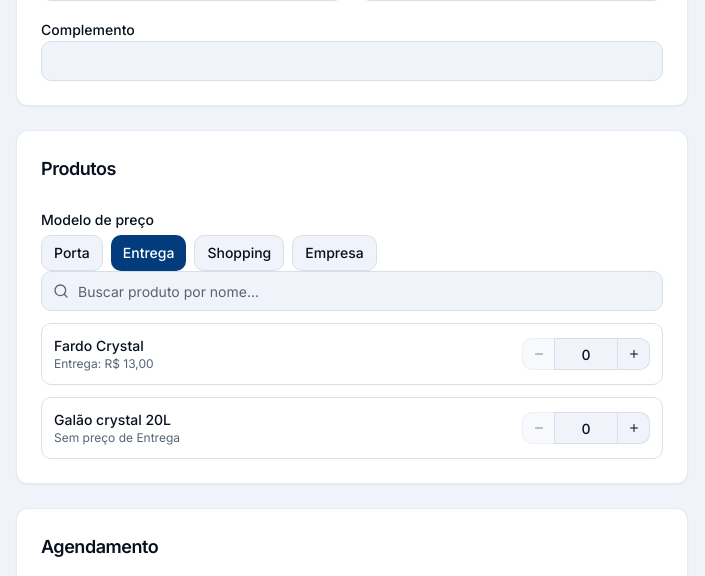
Test: Novo pedido: preço por item › total digitado à mão vira desconto sobre a soma
This screenshot has width=705, height=576.
(page scrolled)
Click the button named "Aumentar" in the row of "Entrega: R$ 13,00": (634, 354) [618,338,650,370]
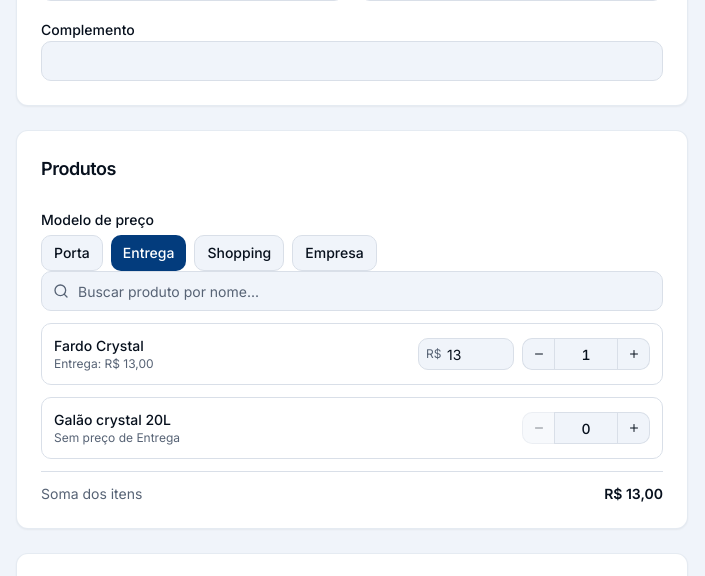
Click the button named "Aumentar" in the row of "Entrega: R$ 13,00": (634, 354) [618,338,650,370]
(page scrolled)
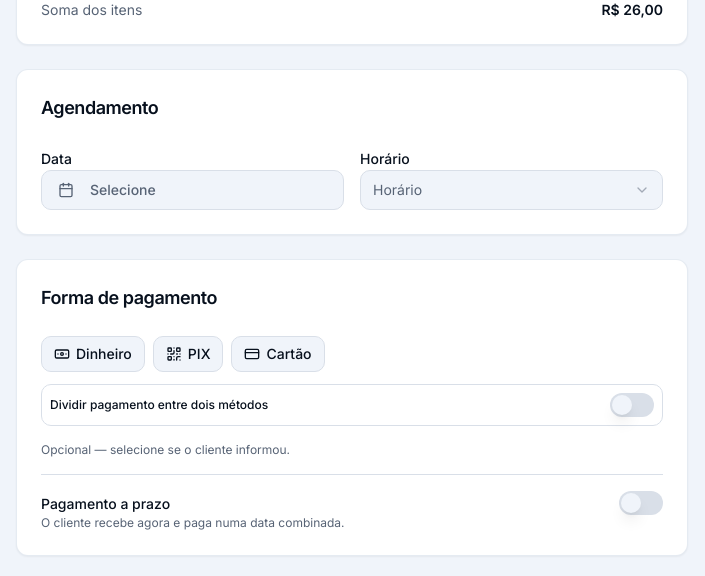
Click the button "PIX": (188, 354) [153,336,223,372]
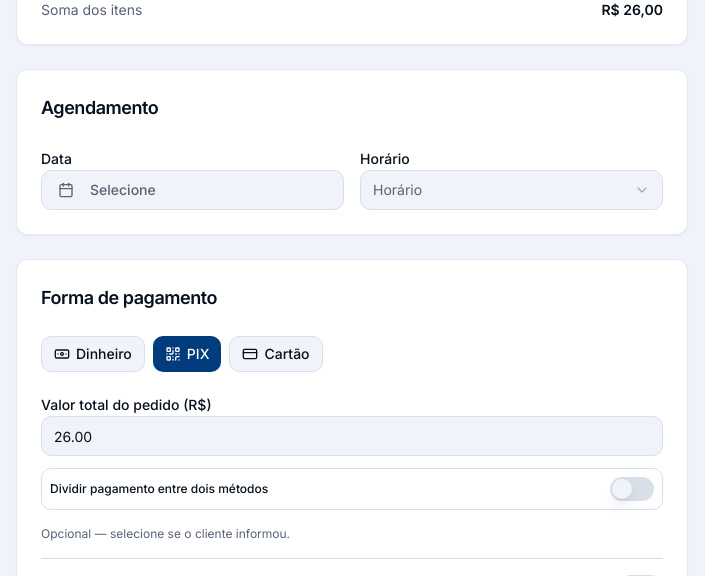
expect the number field holds "26.00": met
Replace the text in the number field with "24": (352, 436) [41,416,663,456]
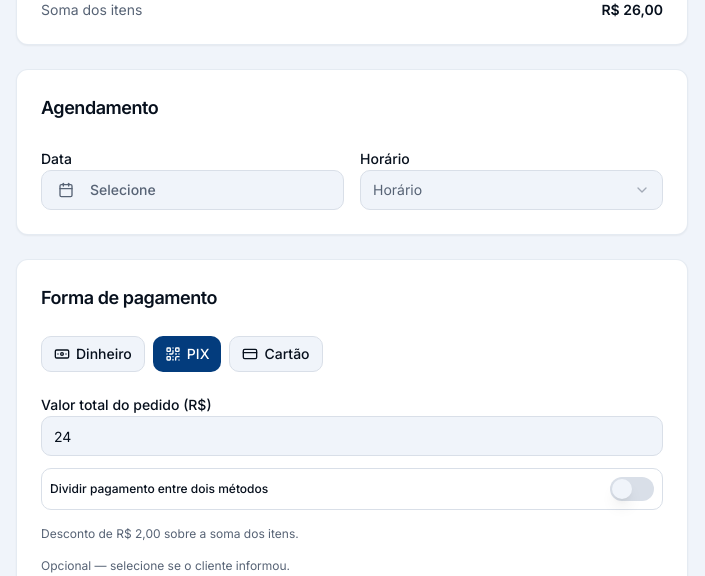
expect the text "Desconto de R$ 2,00 sobre a soma dos itens." is shown: met, box [41,526,299,541]
